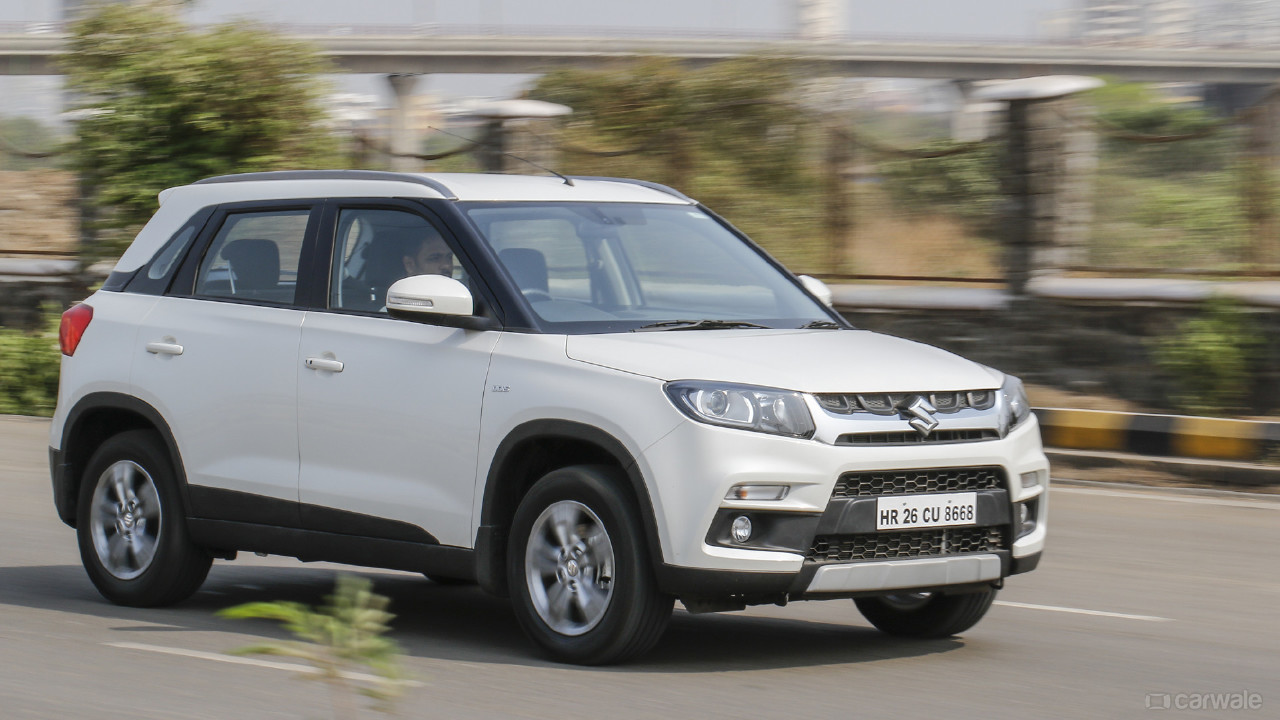numberplate: (874, 494, 981, 529)
